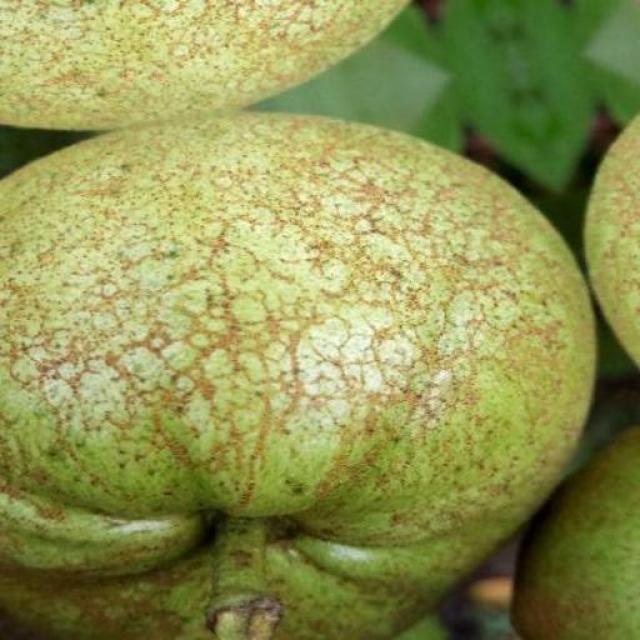Scab: (512, 426, 640, 640), (585, 115, 640, 366)
